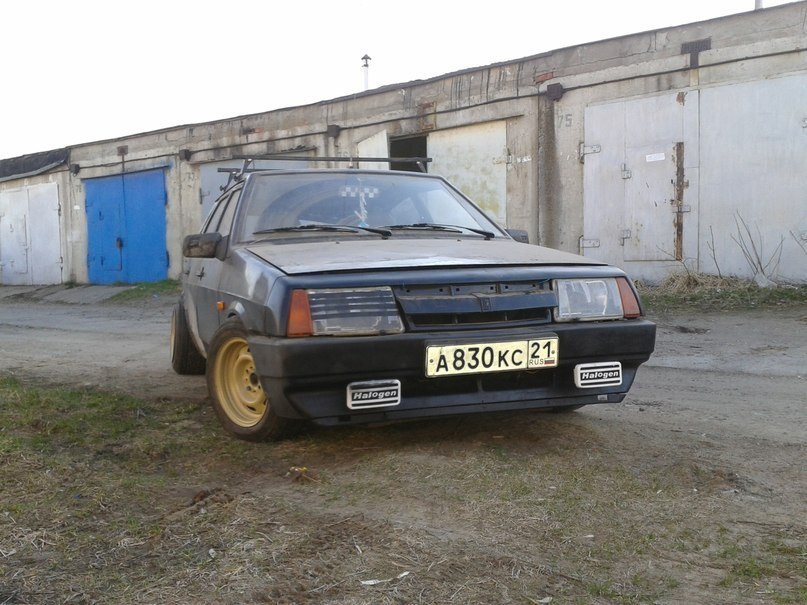car license plate: (425, 332, 560, 382)
